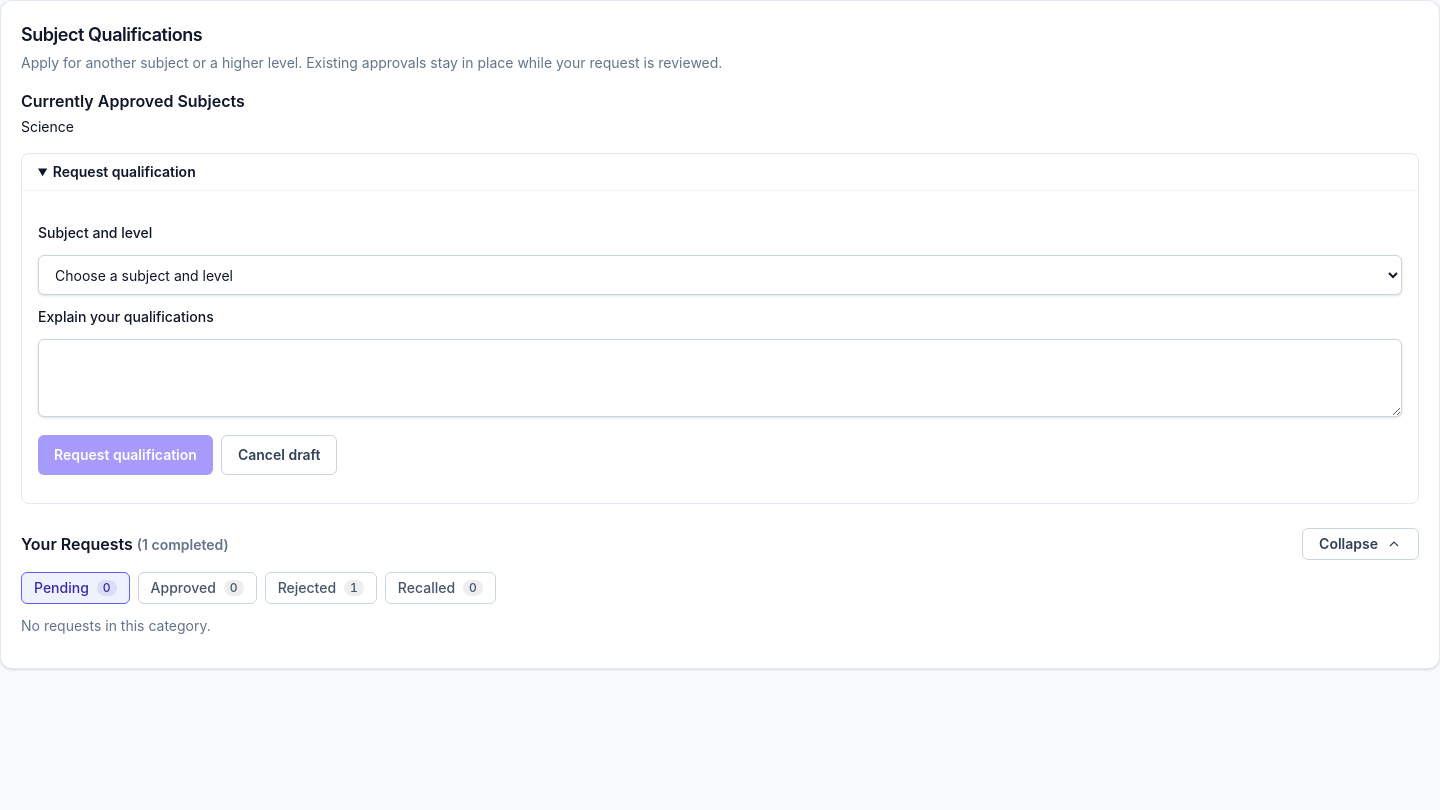
Test case: keeps the Request/Cancel context size while Cancel clears only the local draft
The width and height of the screenshot is (1440, 810).
Select "AP History · Additional subject" in the dropdown labelled "Subject and level": coordinates (720, 275) [38, 255, 1402, 295]
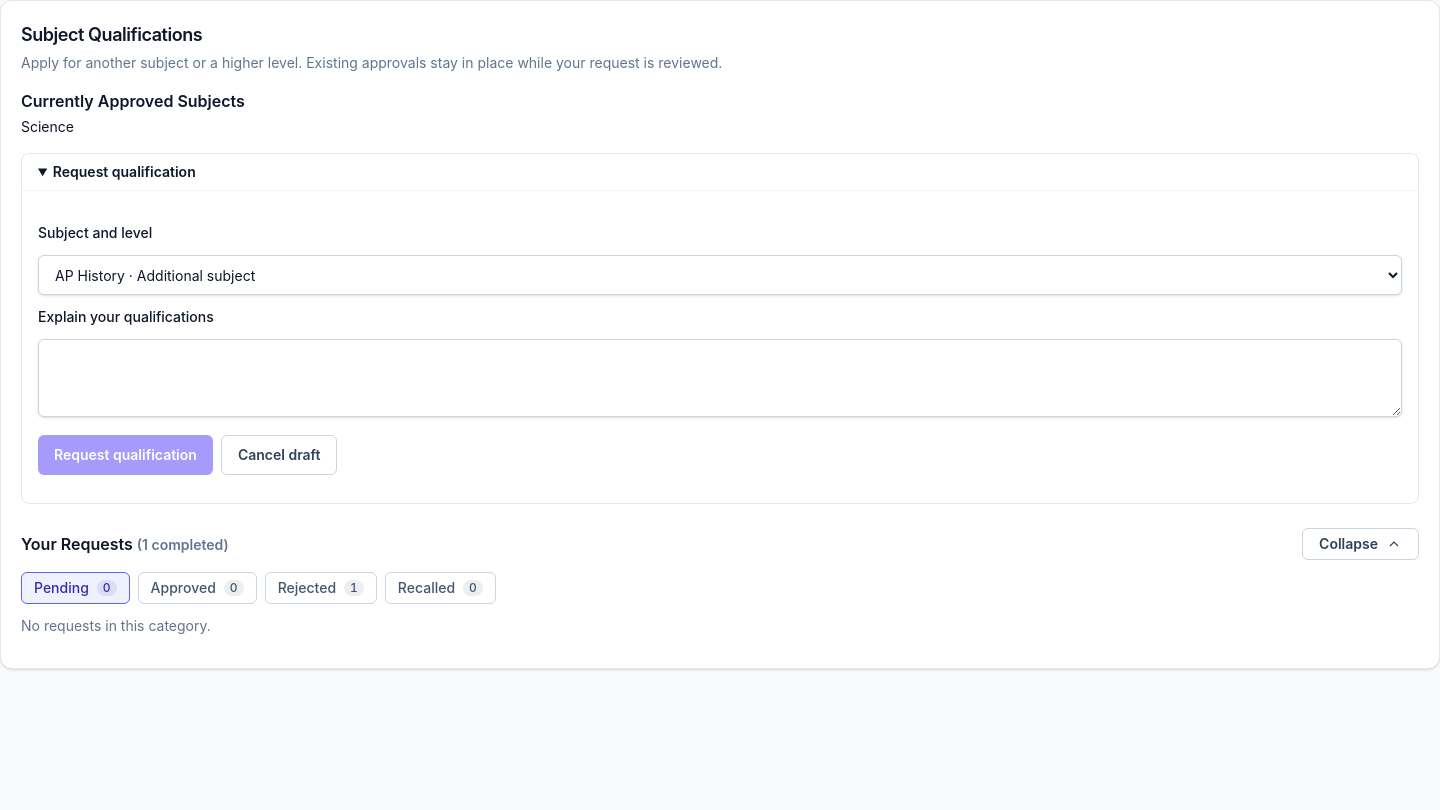
In the text box labelled "Explain your qualifications": coordinates (720, 378) [38, 339, 1402, 417], type "Unsaved qualification evidence"
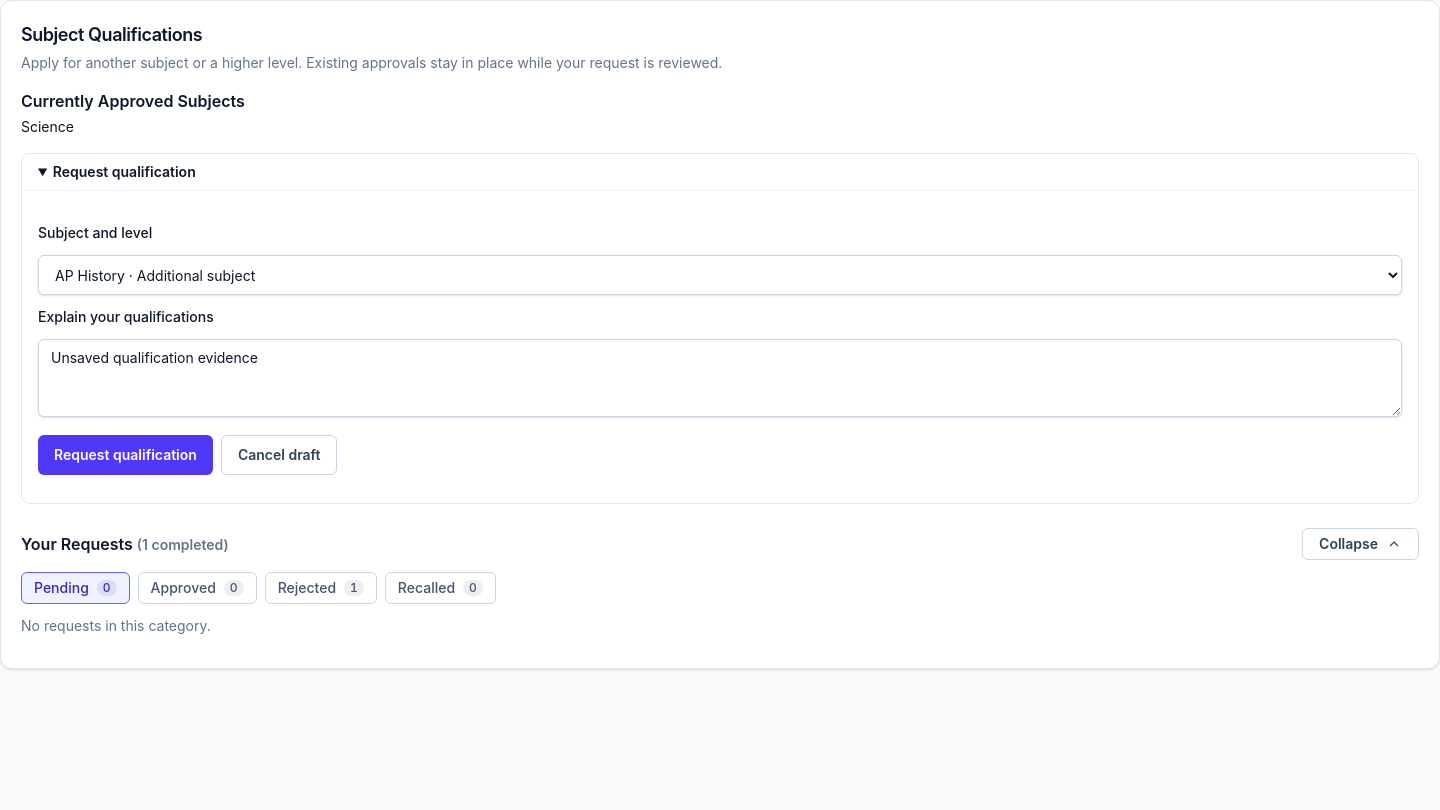
Click the button "Cancel draft": coordinates (279, 455) [221, 435, 338, 475]
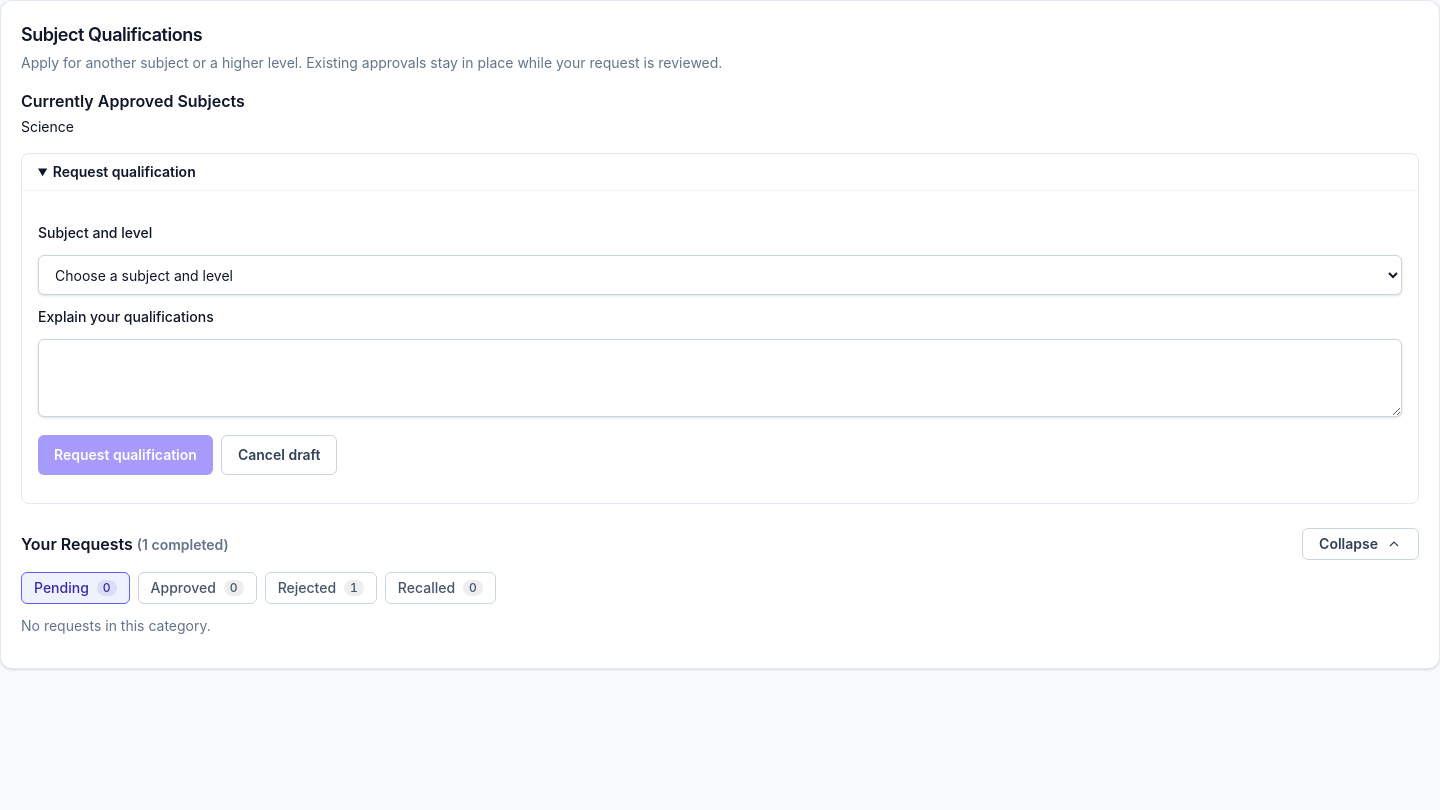
Expected: the text "Science" is shown, [21, 118, 74, 135]
Expected: the text box labelled "Explain your qualifications" is empty, [38, 339, 1402, 417]
Expected: the button "Request qualification" is disabled, [38, 435, 213, 475]
